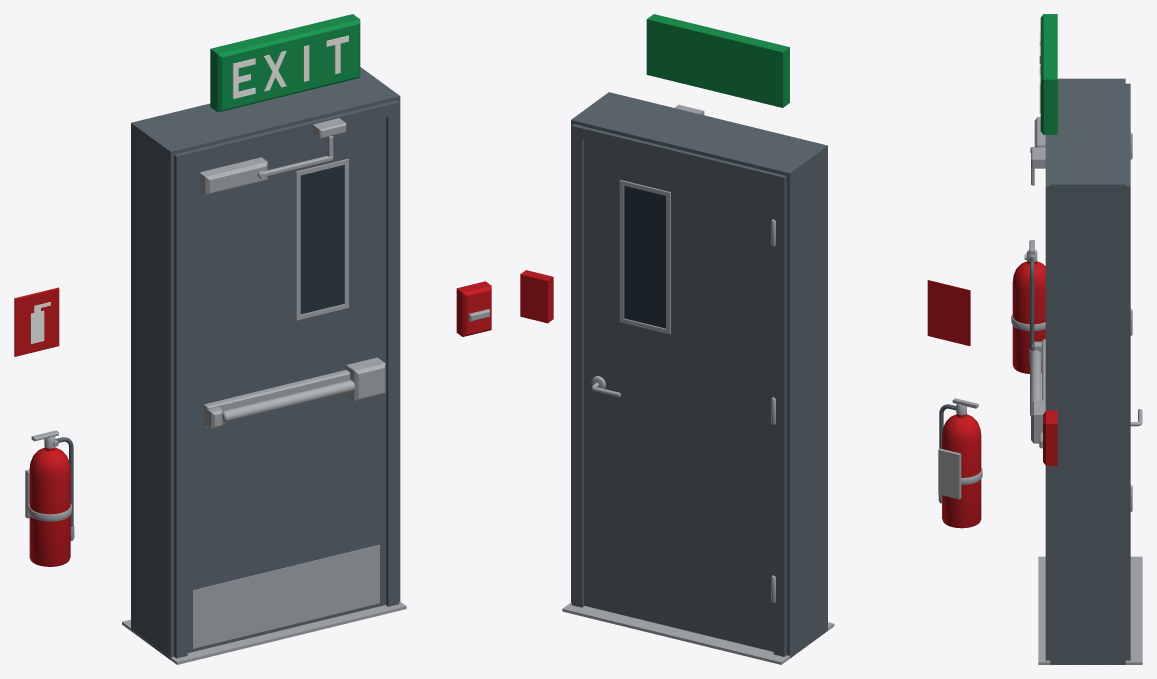
Rendered from Personnel_Door.glb.
3 views of the same model, side by side, from view 1: azimuth 30°, elevation 25°; view 2: azimuth 150°, elevation 25°; view 3: azimuth 270°, elevation 25° (orthographic). The views are drawn at different scales.
Visible parts, largest first — view 1: Personnel_Door; view 2: Personnel_Door; view 3: Personnel_Door.
Part boxes in pixels (bbox=[...]): Personnel_Door: bbox=[14, 14, 491, 664]; Personnel_Door: bbox=[520, 14, 982, 664]; Personnel_Door: bbox=[1011, 14, 1142, 664].
Bounding box in the file's own units: 2.12 × 2.57 × 0.541.
